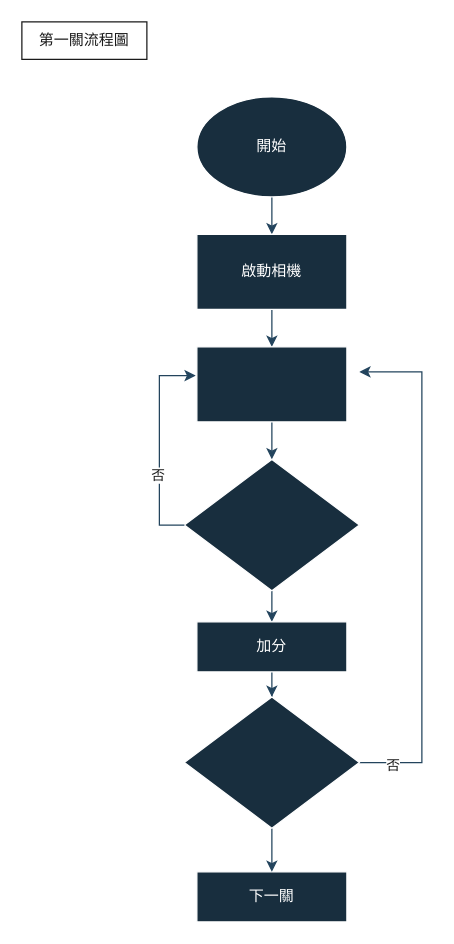
This 454x944 diagram has some shape labels left out. The shapes that lost their labels are listed below. From the top down, each one's centre as x and y in pixels, then its label:
At point (271, 384): "掃描圖像".
At point (271, 524): "是否掃描到圖像".
At point (271, 762): "是否進入下一關".
